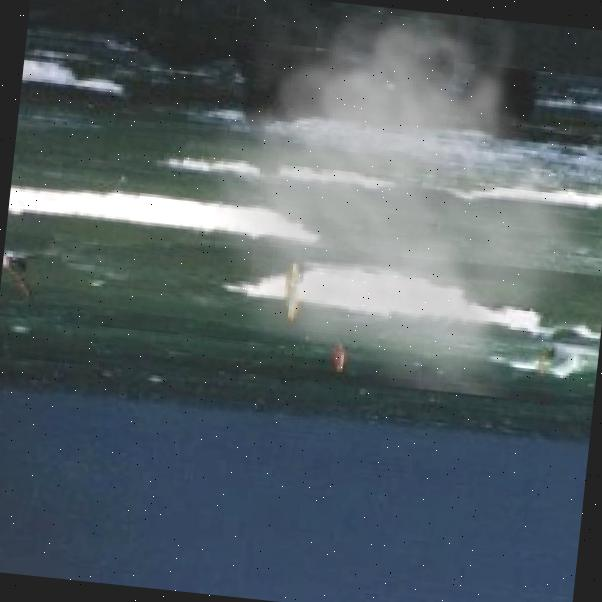smoke: (162, 0, 602, 405)
